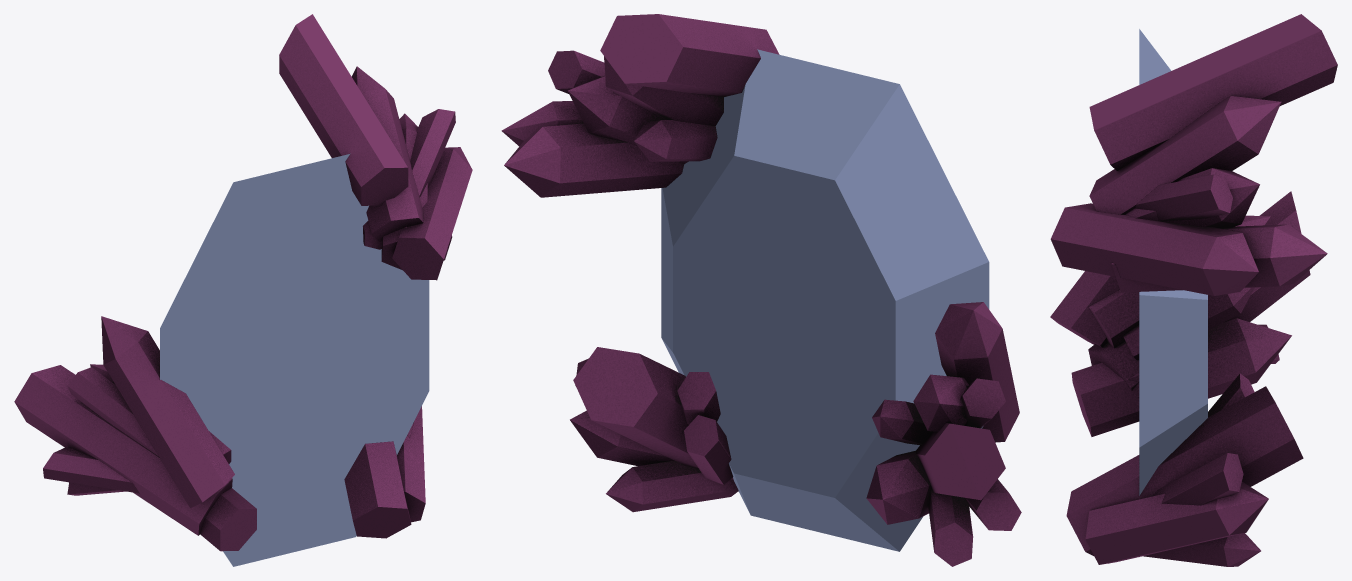
Rendered from Mirror.glb.
3 renders of one model, left to right at view 1: azimuth 30°, elevation 25°; view 2: azimuth 150°, elevation 25°; view 3: azimuth 270°, elevation 25°, orthographic. The views are drawn at different scales.
Parts seen in each view (by area): view 1: Glass, Mirror; view 2: Glass, Mirror; view 3: Mirror, Glass.
Boxes of the visible parts, x1,y1,x2,y2 form: Glass: [160, 153, 429, 566]; Mirror: [14, 14, 472, 551]; Glass: [661, 49, 989, 551]; Mirror: [501, 14, 1021, 566]; Mirror: [1050, 14, 1337, 566]; Glass: [1139, 29, 1207, 495].
Size of the model in its own units: 4.77 by 4.87 by 2.32.
Materials: 2 (1 with a texture image).
